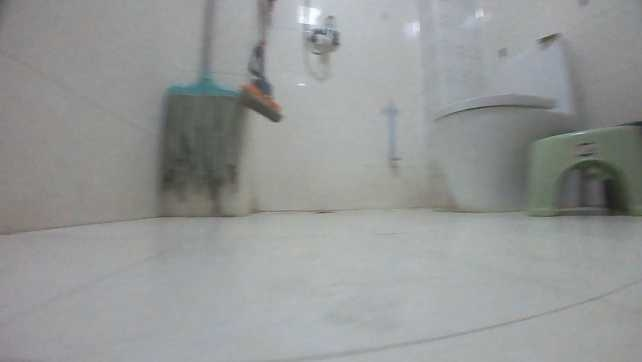plastic_stool: (523, 122, 640, 213)
toilet: (422, 27, 573, 212)
